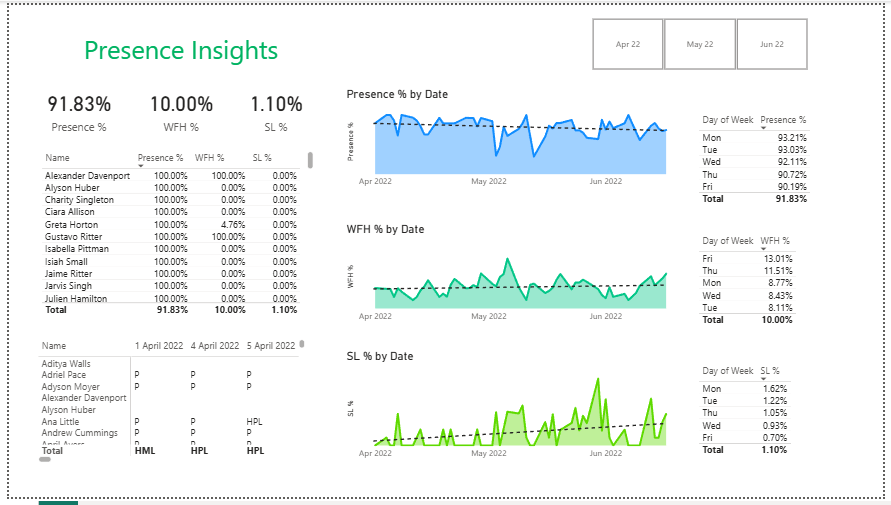

The page's visual inventory and layout, read from the dashboard file:
{"tool":"powerbi","page":{"name":"Page 1","canvas":[1280,720],"ordinal":0},"visuals":[{"type":"card","fields":{"Values":["Measure Table.Presence %"]},"box":[38,106.8,128.8,92.2],"z":2},{"type":"slicer","fields":{"Values":["Final Data.Month"]},"box":[828.3,13.2,364.4,87.8],"z":3},{"type":"card","fields":{"Values":["Measure Table.WFH %"]},"box":[184.4,106.8,134.6,92.2],"z":4},{"type":"card","fields":{"Values":["Measure Table.SL %"]},"box":[330.7,106.8,120,92.2],"z":5},{"type":"tableEx","fields":{"Values":["Final Data.Name","Measure Table.Presence %","Measure Table.WFH %","Measure Table.SL %"]},"box":[42.4,209.3,408.3,248.8],"z":6},{"type":"textbox","box":[42.4,33.7,418.5,73.2],"z":7},{"type":"pivotTable","fields":{"Rows":["Final Data.Name"],"Values":["Min(Final Data.Value)"],"Columns":["Final Data.Date"]},"box":[38,484.4,399.5,190.2],"z":8},{"type":"areaChart","fields":{"Category":["Final Data.Date"],"Y":["Measure Table.Presence %"]},"box":[488.8,120,502,156.6],"z":9},{"type":"areaChart","fields":{"Category":["Final Data.Date"],"Y":["Measure Table.WFH %"]},"box":[488.8,317.6,502,156.6],"z":10},{"type":"areaChart","fields":{"Category":["Final Data.Date"],"Y":["Measure Table.SL %"]},"box":[488.8,503.4,502,171.2],"z":11},{"type":"tableEx","fields":{"Values":["Final Data.Day of Week","Measure Table.Presence %"]},"box":[1003.9,153.7,188.8,153.7],"z":12},{"type":"tableEx","fields":{"Values":["Final Data.Day of Week","Measure Table.WFH %"]},"box":[1003.9,330.7,188.8,153.7],"z":13},{"type":"tableEx","fields":{"Values":["Final Data.Day of Week","Measure Table.SL %"]},"box":[1003.9,521,188.8,153.7],"z":14}]}

Visuals, with their boxes in screenshot pixels (x1, y1, x2, y2), scaled from the page's 1280x720 canvas onto the 891x505 screenshot:
card - Measure Table.Presence %: box(26, 75, 116, 140)
slicer - Final Data.Month: box(577, 9, 830, 71)
card - Measure Table.WFH %: box(128, 75, 222, 140)
card - Measure Table.SL %: box(230, 75, 314, 140)
tableEx - Final Data.Name x Measure Table.Presence %: box(30, 147, 314, 321)
textbox: box(30, 24, 321, 75)
pivotTable - Final Data.Name x Min(Final Data.Value): box(26, 340, 305, 473)
areaChart - Final Data.Date x Measure Table.Presence %: box(340, 84, 690, 194)
areaChart - Final Data.Date x Measure Table.WFH %: box(340, 223, 690, 333)
areaChart - Final Data.Date x Measure Table.SL %: box(340, 353, 690, 473)
tableEx - Final Data.Day of Week x Measure Table.Presence %: box(699, 108, 830, 216)
tableEx - Final Data.Day of Week x Measure Table.WFH %: box(699, 232, 830, 340)
tableEx - Final Data.Day of Week x Measure Table.SL %: box(699, 365, 830, 473)
